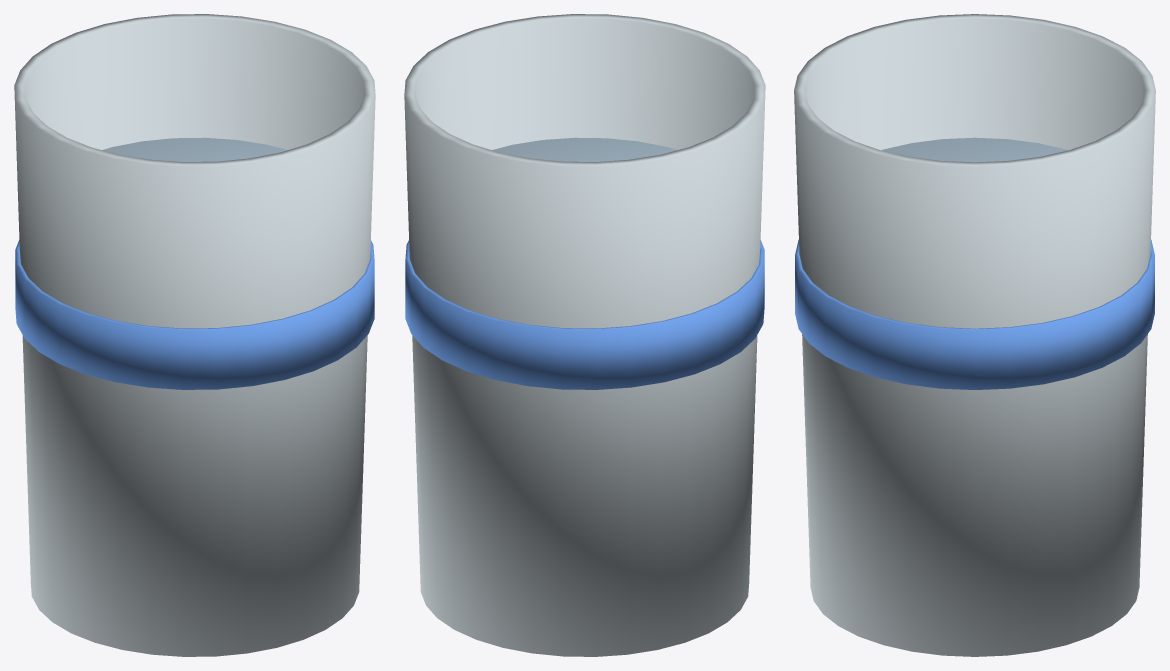
File: glass_cold.glb
3 views of the same model, side by side, from view 1: azimuth 30°, elevation 25°; view 2: azimuth 150°, elevation 25°; view 3: azimuth 270°, elevation 25° (orthographic).
Parts seen in each view (by area): view 1: cold_glass, cold_band, water_body; view 2: cold_glass, cold_band, water_body; view 3: cold_glass, cold_band, water_body.
Part boxes in pixels (x1,y1,x2,y2): cold_glass: [14, 14, 375, 656]; cold_band: [15, 240, 374, 389]; water_body: [102, 137, 287, 161]; cold_glass: [404, 14, 765, 656]; cold_band: [405, 240, 764, 389]; water_body: [492, 137, 677, 161]; cold_glass: [794, 14, 1155, 656]; cold_band: [795, 239, 1154, 389]; water_body: [882, 137, 1067, 162].
Bounding box in the file's own units: 0.066 × 0.1 × 0.066.
